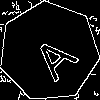A: (24, 26, 80, 83)
